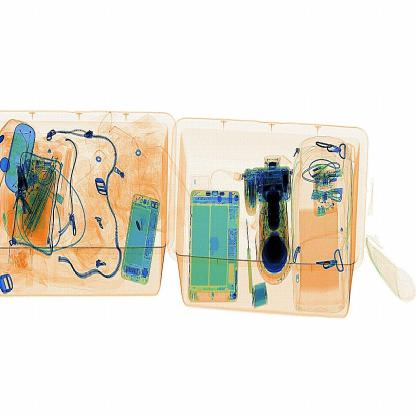wrench: (241, 218, 256, 298)
